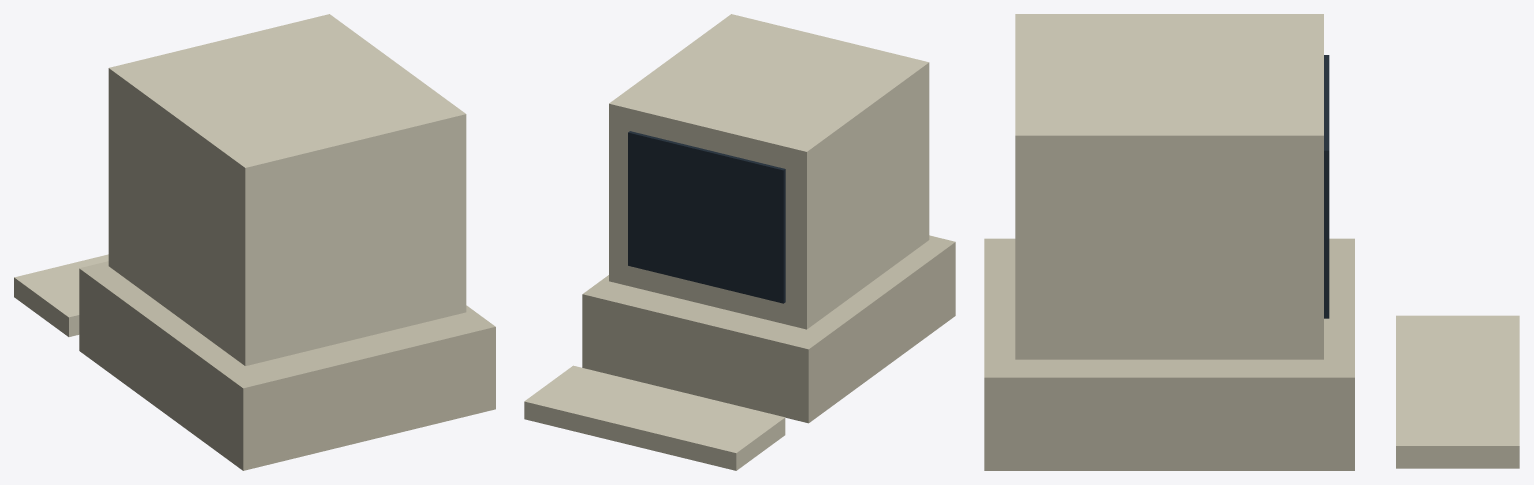
The model's file is komputer_crt.obj.
3 renders of one model, left to right at view 1: azimuth 30°, elevation 25°; view 2: azimuth 150°, elevation 25°; view 3: azimuth 270°, elevation 25°, orthographic. The views are drawn at different scales.
Parts seen in each view (by area): view 1: Cube; view 2: Cube; view 3: Cube.
Part boxes in pixels (bbox=[...]): Cube: bbox=[14, 14, 495, 470]; Cube: bbox=[524, 14, 955, 470]; Cube: bbox=[984, 14, 1519, 470].
Size of the model in its own units: 1.6 by 1.76 by 2.6.
